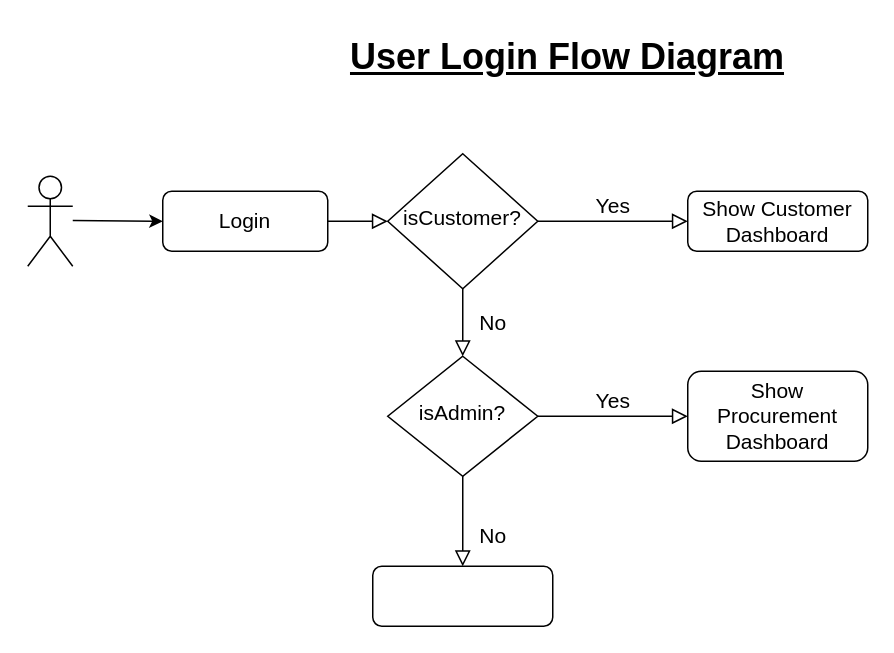
This 894x653 diagram has some shape labels left out. Each missing label, with the centre of its shape:
"Actor" goes at pixel 49 220.
"Show Store Dashboard" goes at pixel 462 595.
